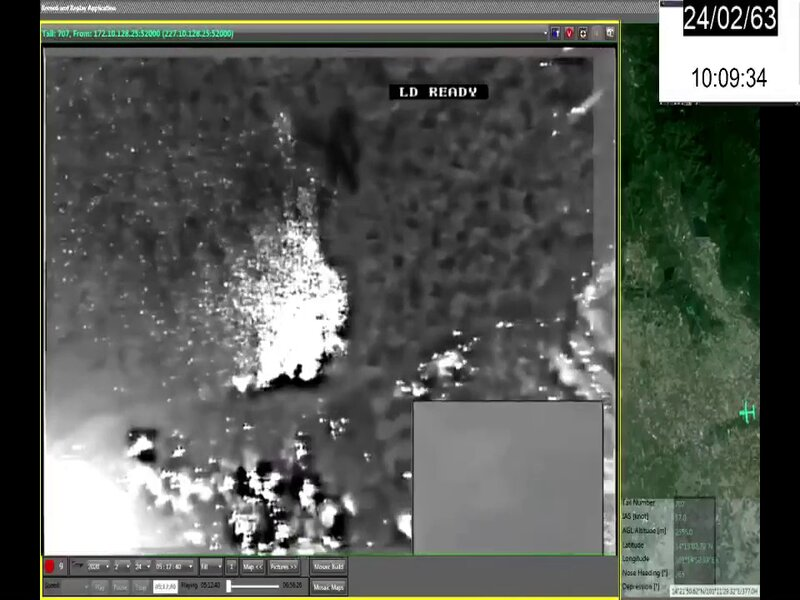Fire: (225, 219, 351, 395)
